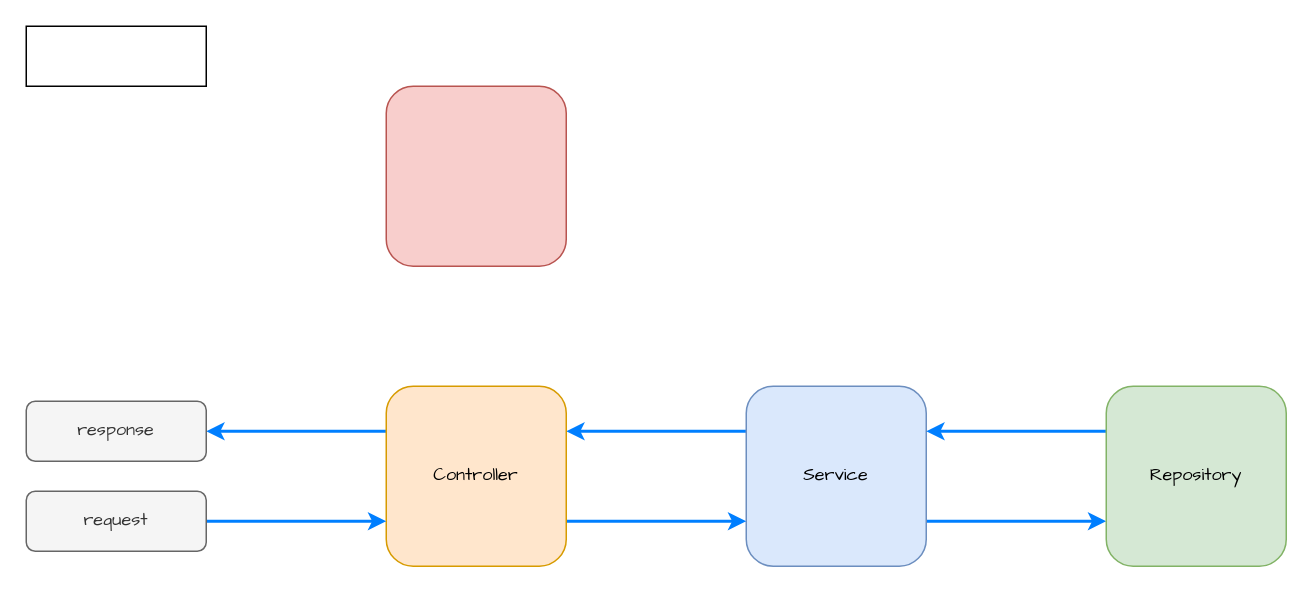
Some shapes in this 1313 by 593 pixel diagram are drawn without their labels. The shapes that lost their labels are listed below. From the top down, each one's box as (x1, y1, x2, y2) in pixels, then its label:
(25, 25, 206, 86): 正常系
(385, 85, 566, 266): Exception Handler
